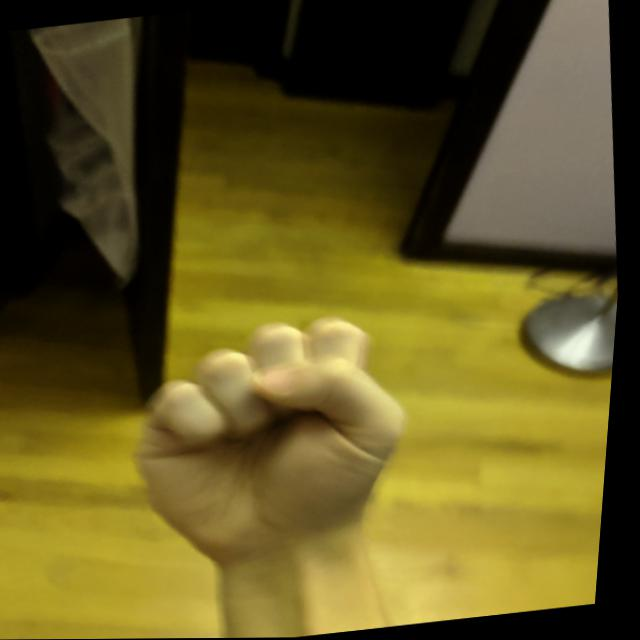S: (101, 299, 443, 585)
